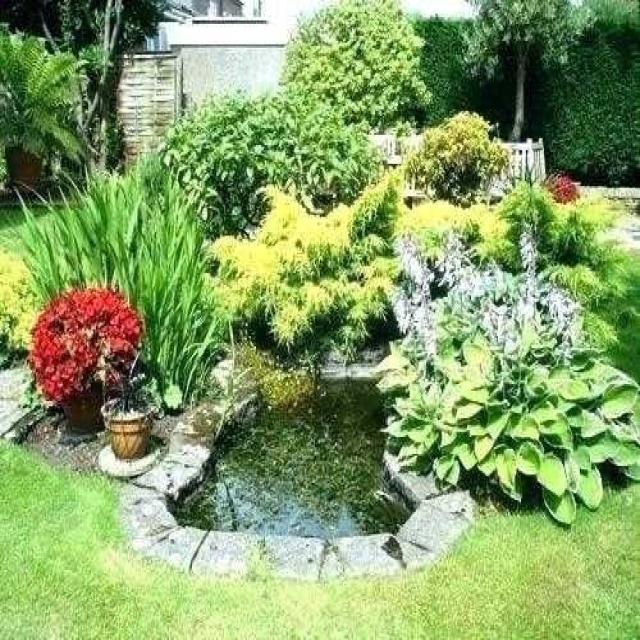Ponds: (117, 350, 478, 584)
